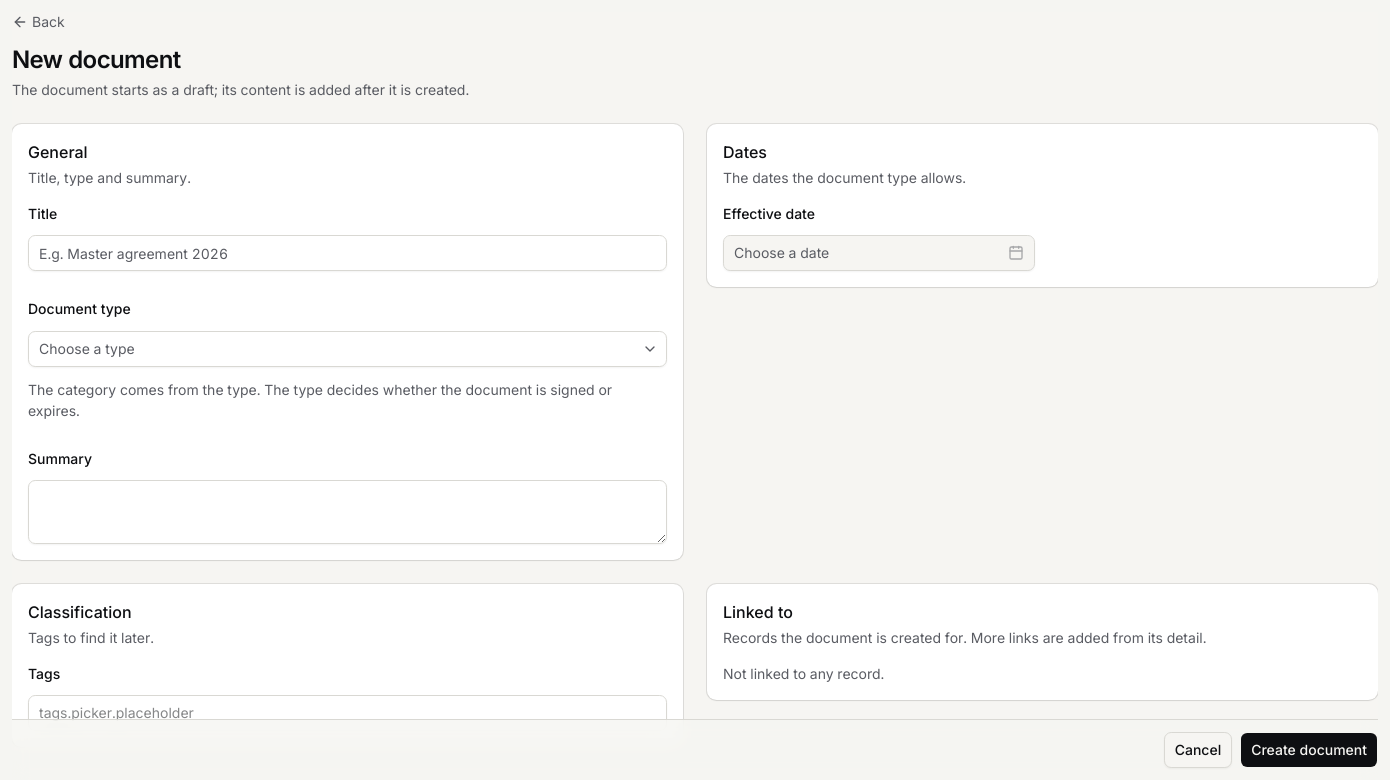
Test case: DocumentForm, create › shows the signature and expiry fields only for a type that has them
This screenshot has width=1390, height=780.
Expected: the field labelled "Signed date" is not shown
Click the dropdown named "Document type". click: (87, 348)
box: [28,330,667,366]
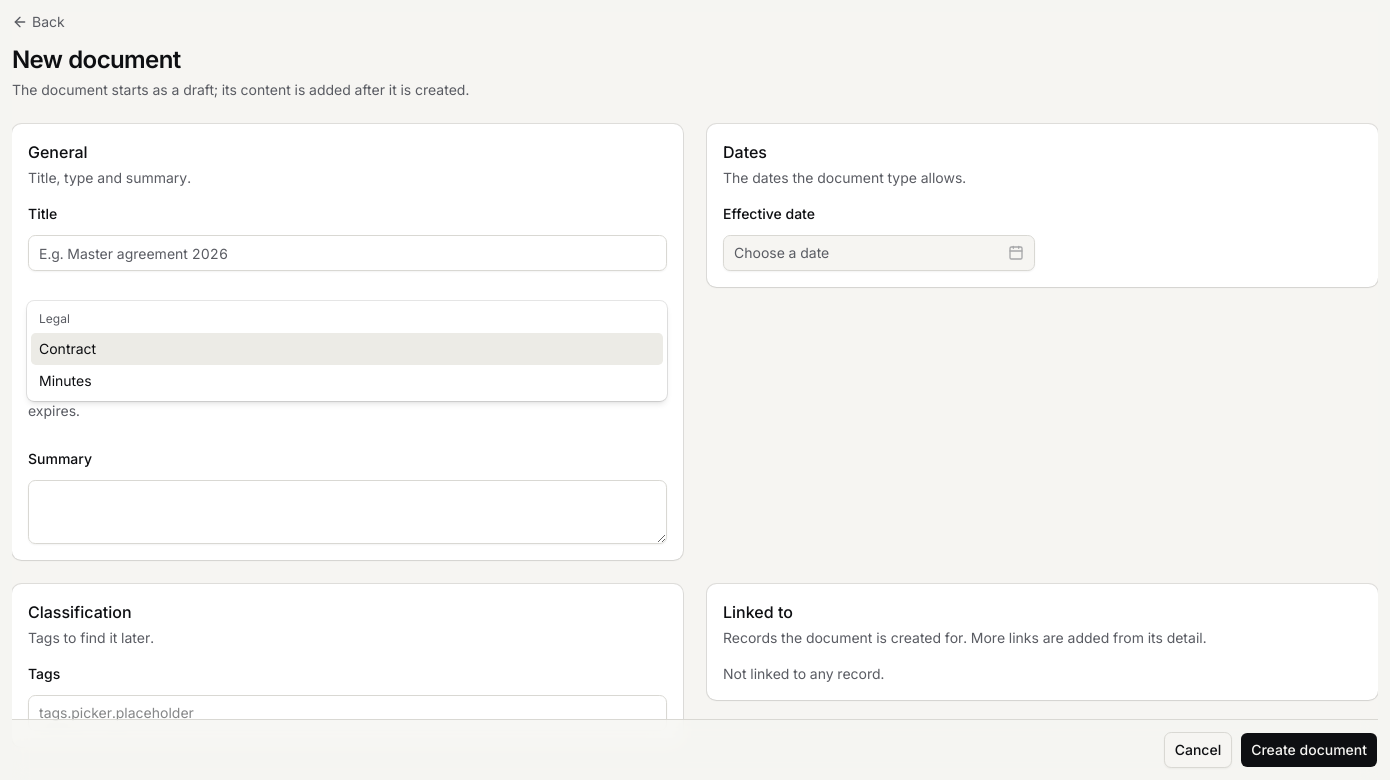
Click the option "Contract". click: (68, 348)
box: [31,332,663,364]
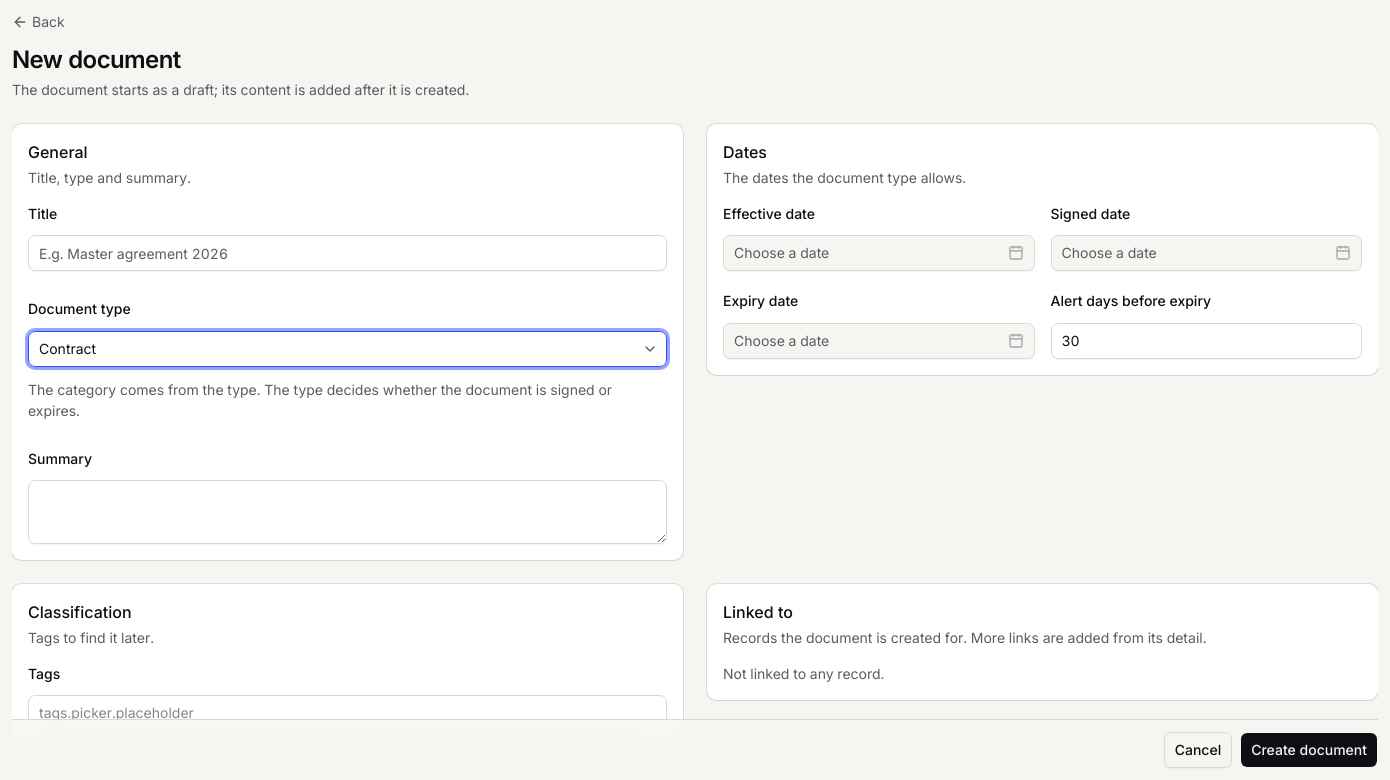
Expected: the text "Signed date" is shown, [1050,205,1130,222]
Expected: the text "Expiry date" is shown, [723,292,798,309]
Click the dropdown named "Document type". click: (68, 348)
box: [28,330,667,366]
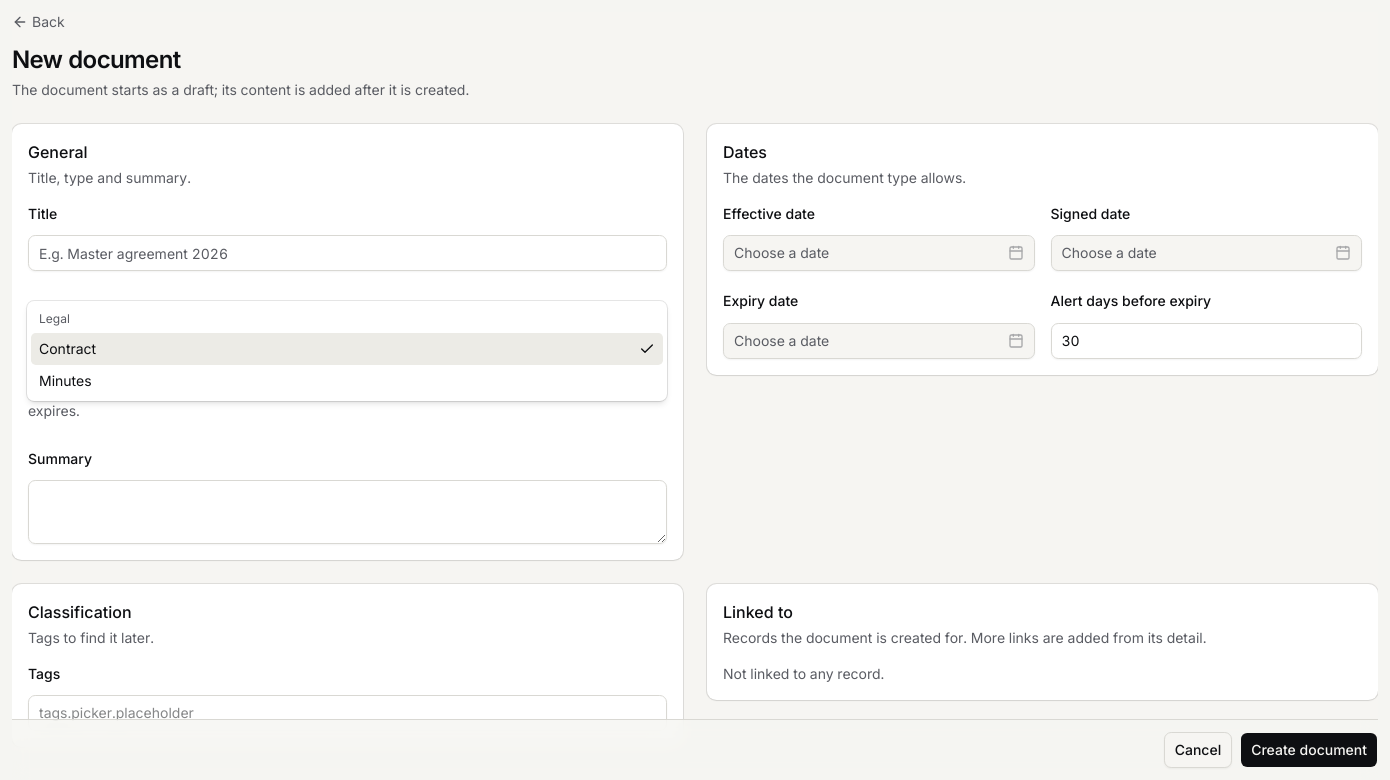
Click the option "Minutes". click: (65, 380)
box: [39,372,92,388]
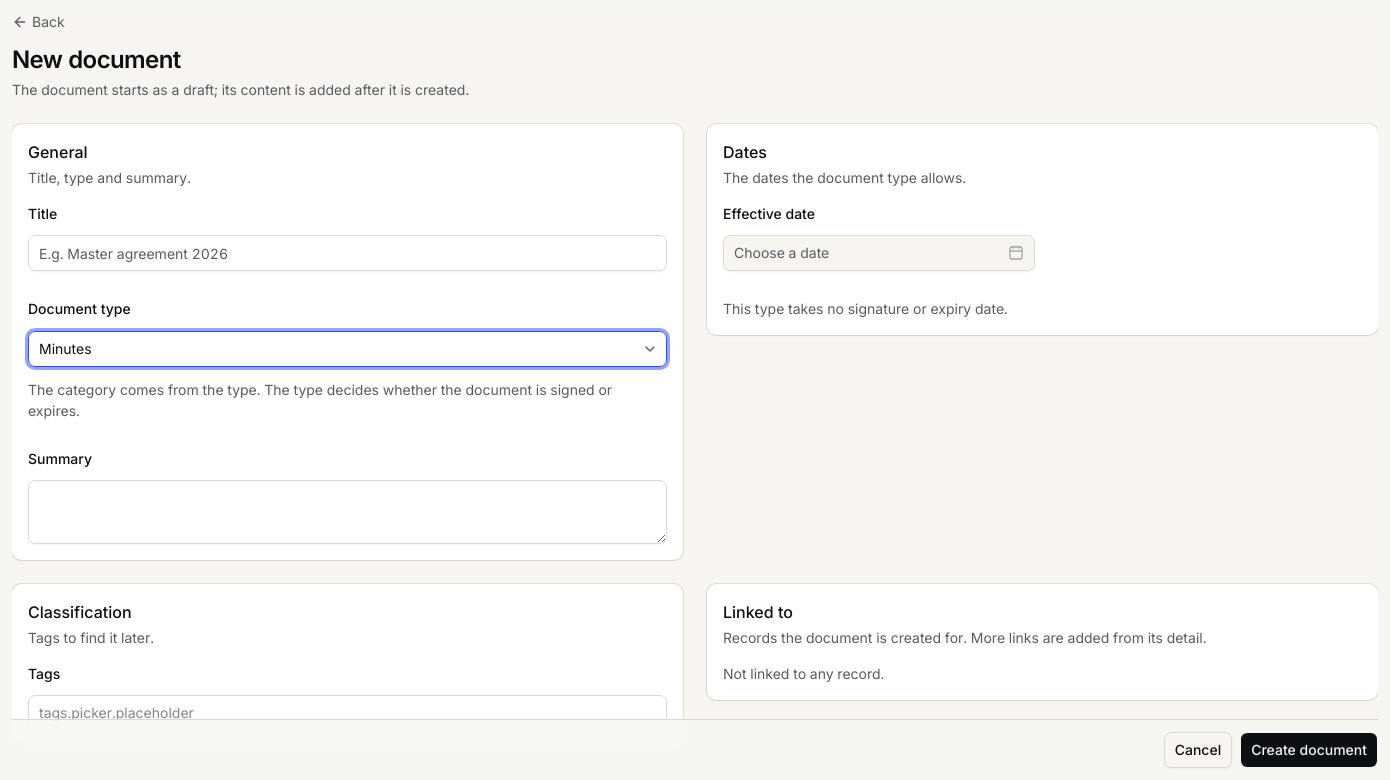
Expected: the text "Signed date" is gone
